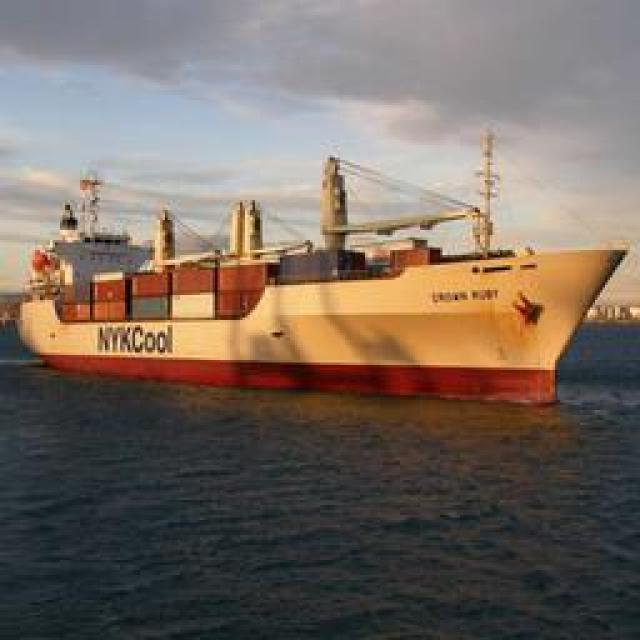CIV_Ship: (15, 134, 635, 398)
